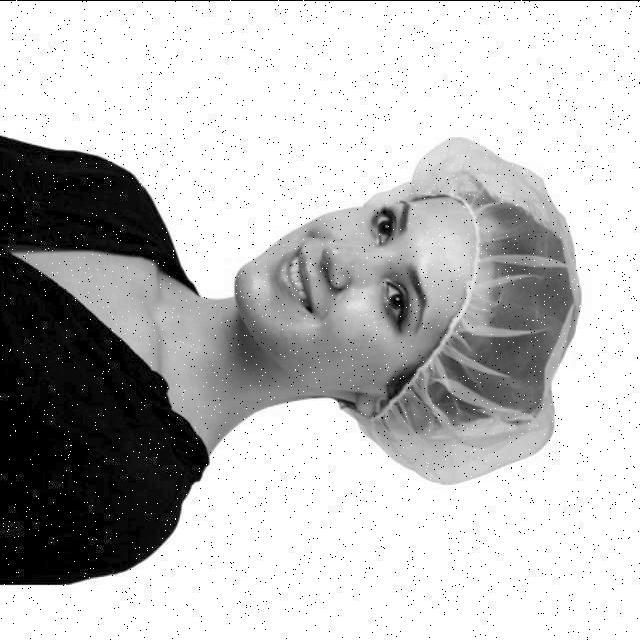gloves: (422, 155, 578, 435)
no_hairnet: (260, 206, 390, 363)
